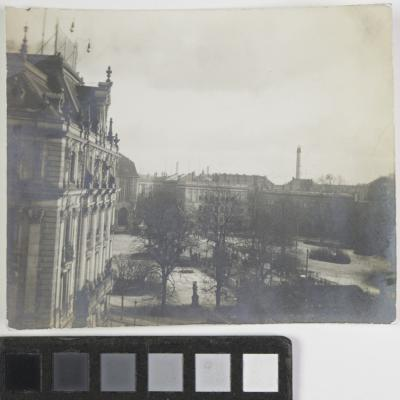photos_negatives: (7, 8, 396, 325)
